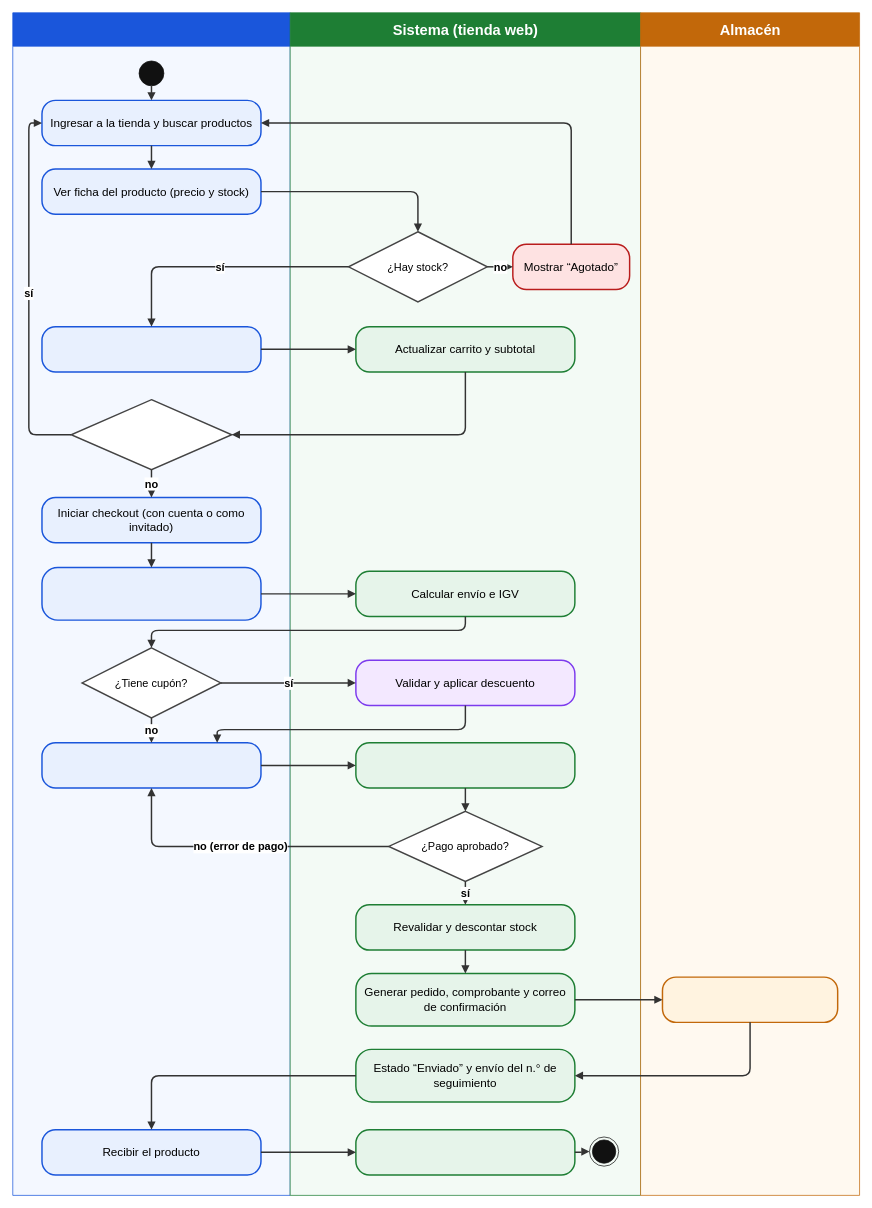
Image size: 872x1208. Some labels were removed from this diagram. Here are the shapes that lost their labels. From the top down, the box of each, then its label:
(41, 326, 261, 372): Agregar al carrito
(70, 399, 232, 470): ¿Seguir comprando?
(41, 566, 261, 620): Ingresar datos de envío y comprobante (boleta o factura)
(12, 12, 290, 1195): Cliente
(41, 742, 261, 788): Elegir medio de pago y confirmar pedido
(355, 742, 575, 788): Procesar pago
(661, 976, 838, 1023): Preparar y despachar pedido
(355, 1129, 575, 1175): Estado “Entregado”
